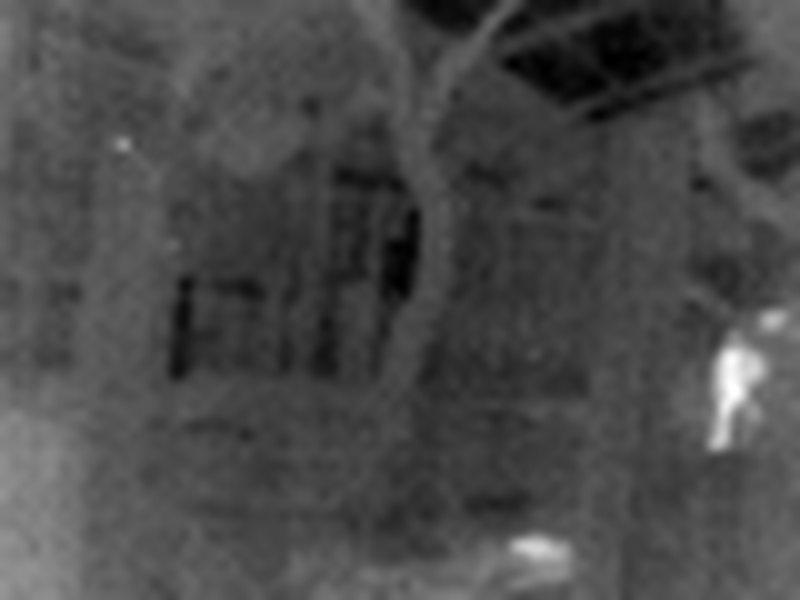elephant: (684, 303, 790, 460)
